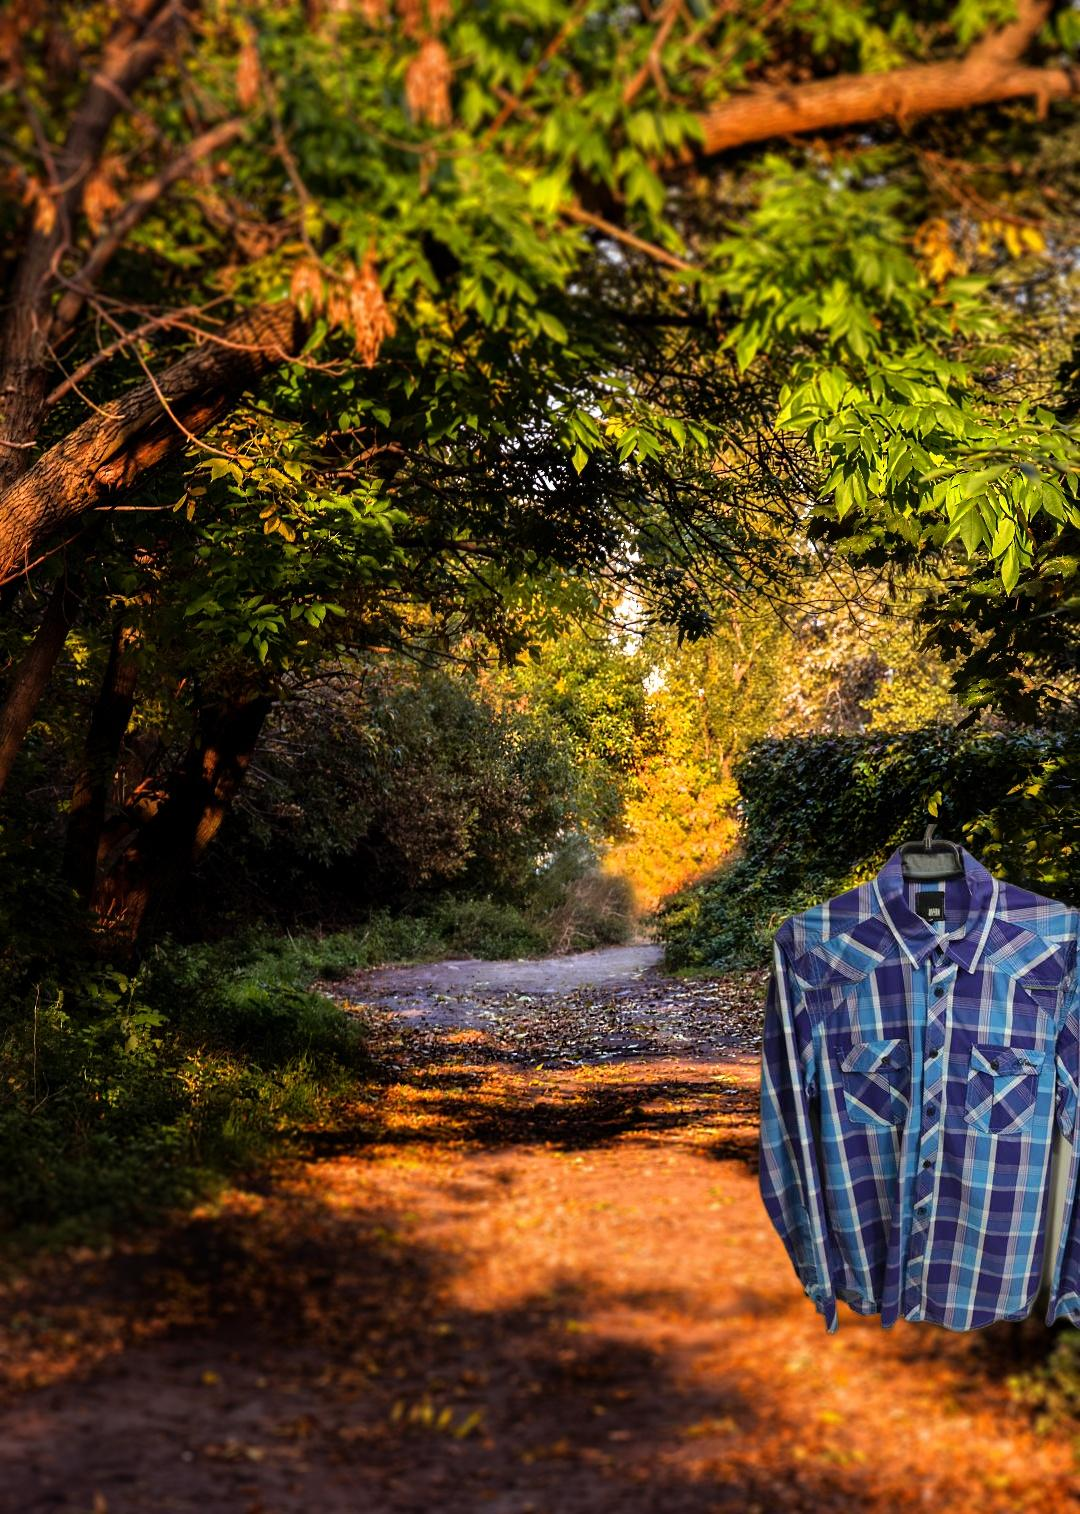clothes: (755, 824, 1080, 1340)
